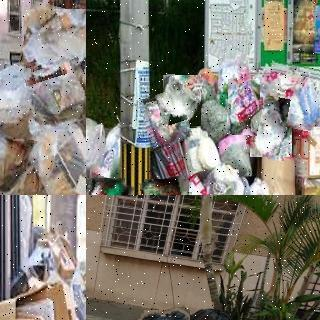Garbage: (24, 112, 86, 195), (20, 4, 86, 80), (27, 60, 86, 128), (0, 66, 53, 140), (263, 62, 320, 130), (247, 98, 295, 159), (142, 91, 190, 146), (179, 123, 223, 175), (214, 122, 254, 176), (162, 74, 202, 127), (227, 79, 260, 136), (201, 161, 249, 195), (174, 300, 230, 320), (141, 177, 191, 195), (86, 175, 129, 195), (244, 174, 277, 195), (142, 308, 190, 320)
